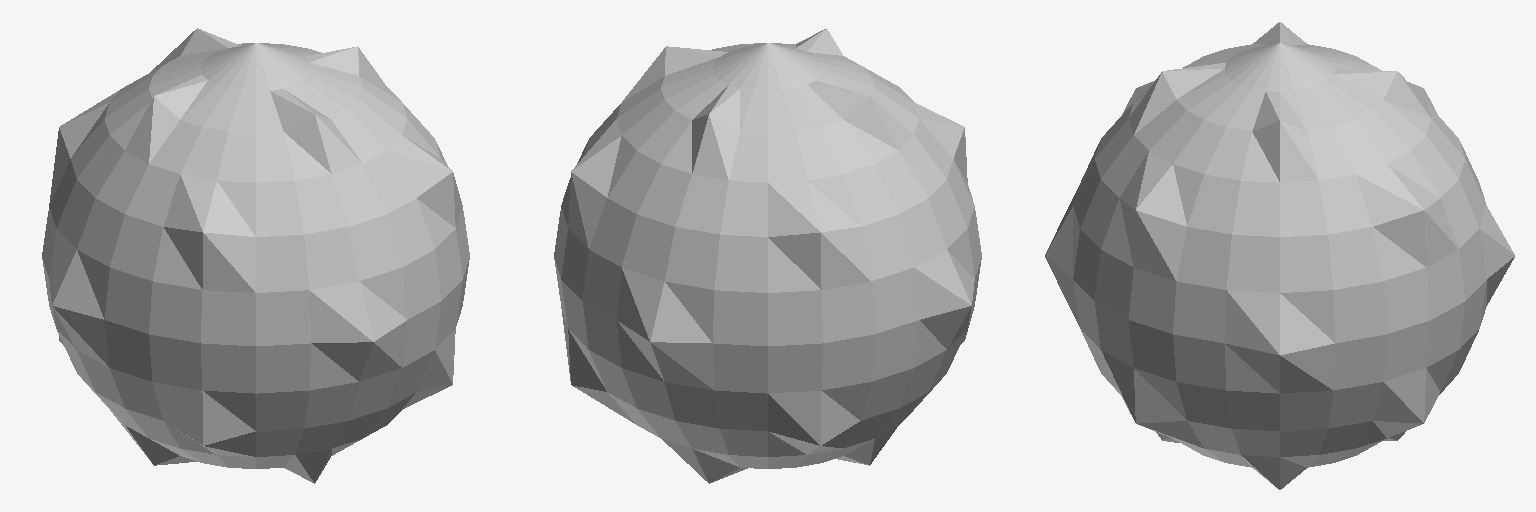
File: newspike0.obj
3 renders of one model, left to right at view 1: azimuth 30°, elevation 25°; view 2: azimuth 150°, elevation 25°; view 3: azimuth 270°, elevation 25°, orthographic.
Visible parts, largest first — view 1: Sphere; view 2: Sphere; view 3: Sphere.
Boxes of the visible parts, x1,y1,x2,y2 form: Sphere: [42, 28, 469, 483]; Sphere: [554, 28, 981, 483]; Sphere: [1045, 22, 1514, 489].
Bounding box in the file's own units: 220 × 220 × 220.